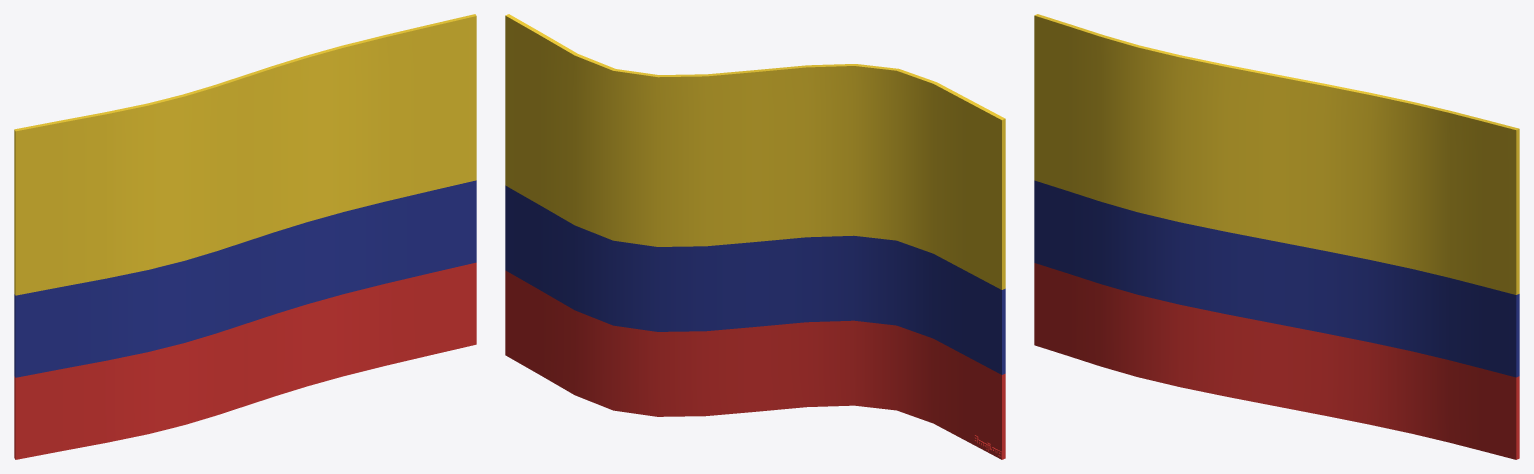
Rendered from flag_colombia.gltf.
The picture shows the model from 3 angles, left to right: view 1: azimuth 30°, elevation 25°; view 2: azimuth 150°, elevation 25°; view 3: azimuth 330°, elevation 25°; orthographic projection. The views are drawn at different scales.
Visible parts, largest first — view 1: Plane.420; view 2: Plane.420; view 3: Plane.420.
Boxes of the visible parts, <box> form: Plane.420: <box>14,14,476,459</box>; Plane.420: <box>505,14,1005,459</box>; Plane.420: <box>1034,14,1519,459</box>.
Bounding box in the file's own units: 2.18 × 1.58 × 0.3373.
Materials: 1 (1 with a texture image).
